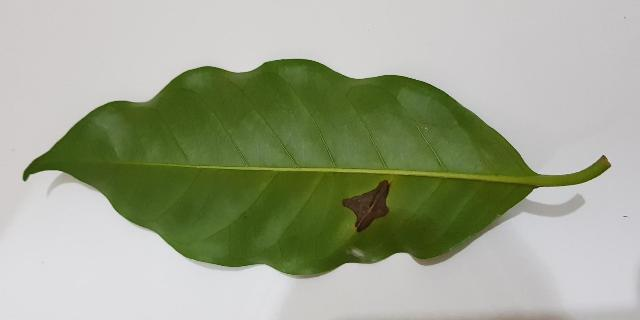cercospora: (342, 180, 391, 232)
